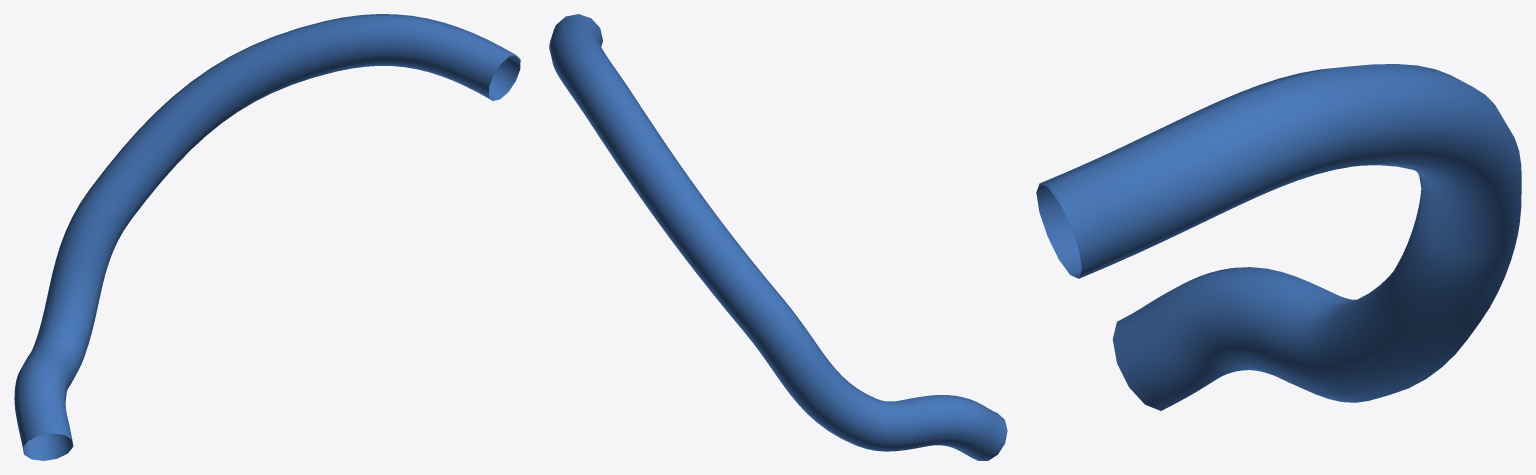
3 renders of one model, left to right at view 1: azimuth 30°, elevation 25°; view 2: azimuth 150°, elevation 25°; view 3: azimuth 270°, elevation 25°, orthographic. The views are drawn at different scales.
Visible parts, largest first — view 1: 冠状窦; view 2: 冠状窦; view 3: 冠状窦.
Part boxes in pixels (x1,y1,x2,y2): 冠状窦: (14,14,520,460); 冠状窦: (549,14,1007,460); 冠状窦: (1036,64,1521,410).
Bounding box in the file's own units: 0.0782 × 0.0529 × 0.0347.
